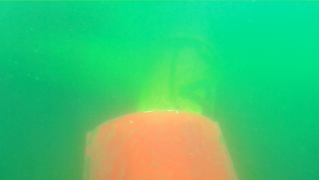4: (180, 81, 214, 120)
leak: (82, 110, 238, 180)
pipe: (1, 31, 149, 102), (134, 28, 214, 120)
